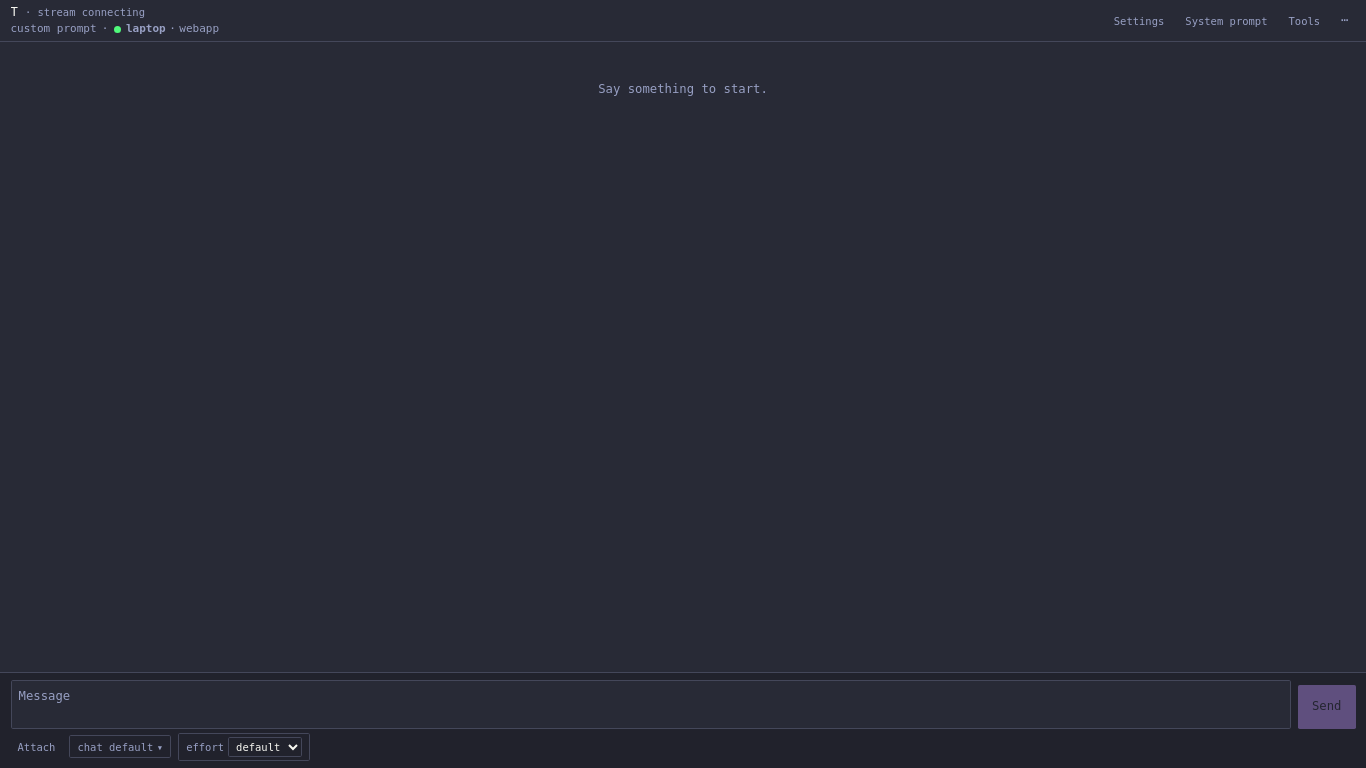
Test: chat header: settings, system prompt and delete › a chat with its own prompt opens the settings on Custom with that text, and saving unchanged sends nothing
Expected: the text "custom prompt" is shown, top-left (10, 21), bottom-right (97, 38)
Click the button "Settings": point(1139, 21) top-left (1107, 10), bottom-right (1171, 31)
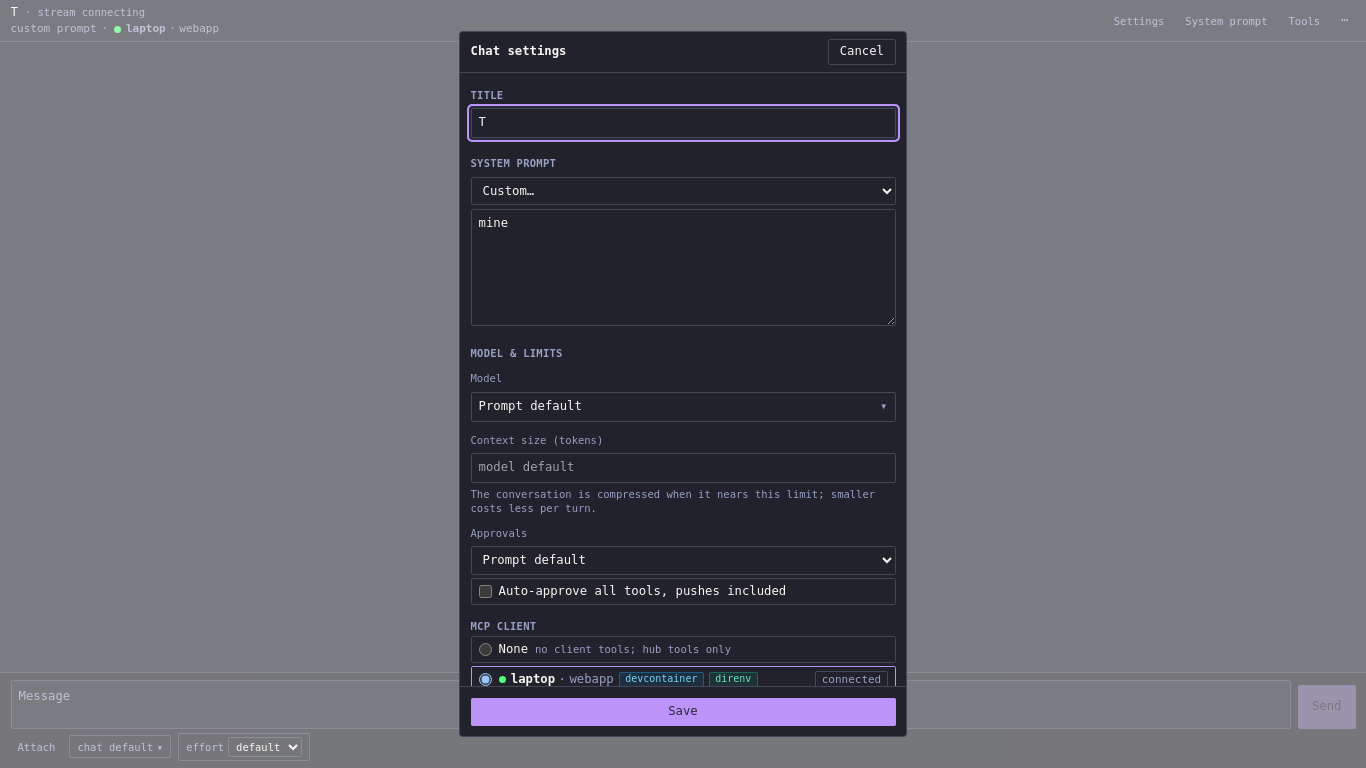
Expected: the dropdown labelled "System prompt" shows "Custom…", top-left (470, 177), bottom-right (896, 205)
Expected: the text box named "Custom system prompt" holds "mine", top-left (470, 209), bottom-right (896, 326)
Click the button "Save": point(683, 712) top-left (470, 698), bottom-right (896, 726)
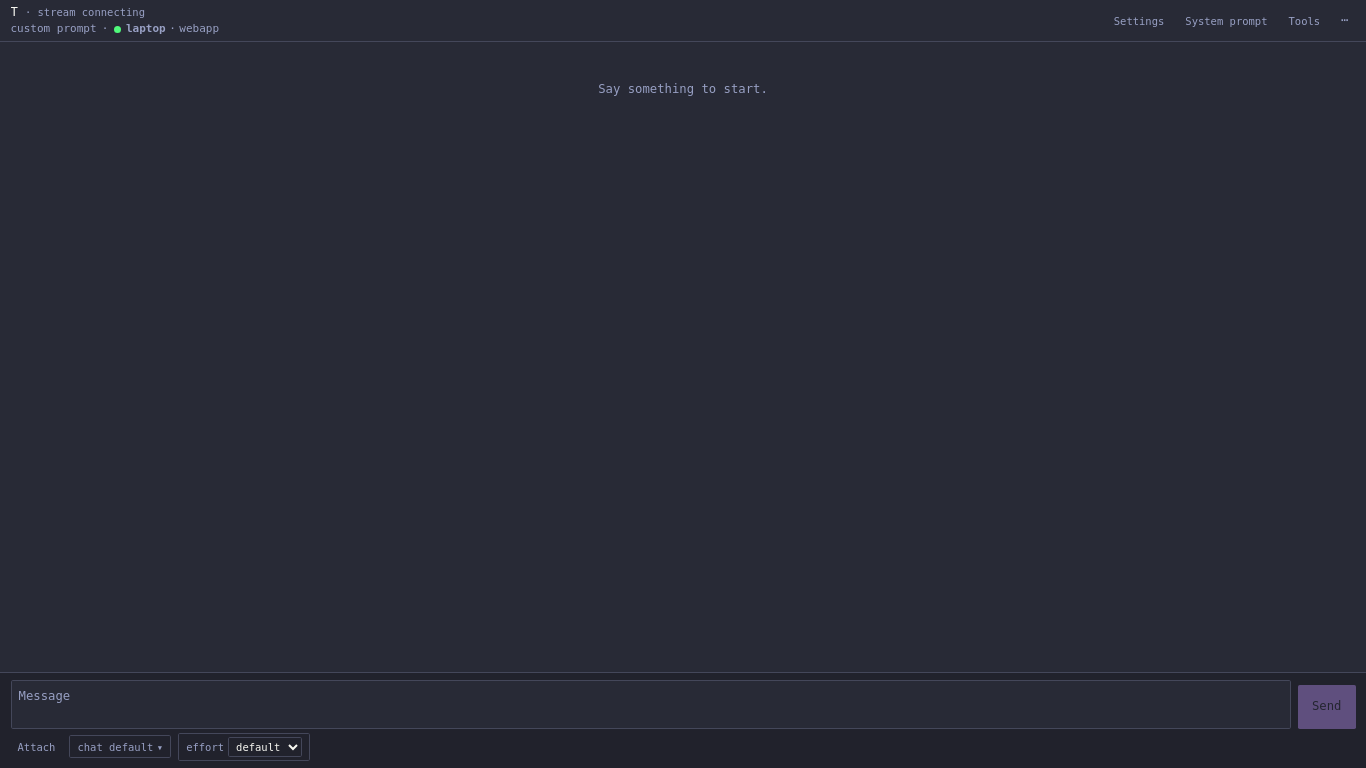
Expected: the heading "Chat settings" is gone
